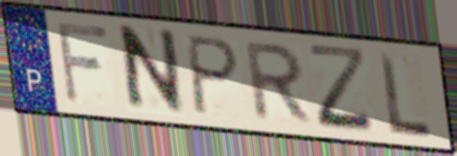F: (53, 19, 112, 107)
L: (376, 49, 435, 140)
N: (121, 23, 187, 118)
P: (186, 32, 243, 118)
R: (244, 40, 316, 126)
Z: (305, 41, 380, 138)
